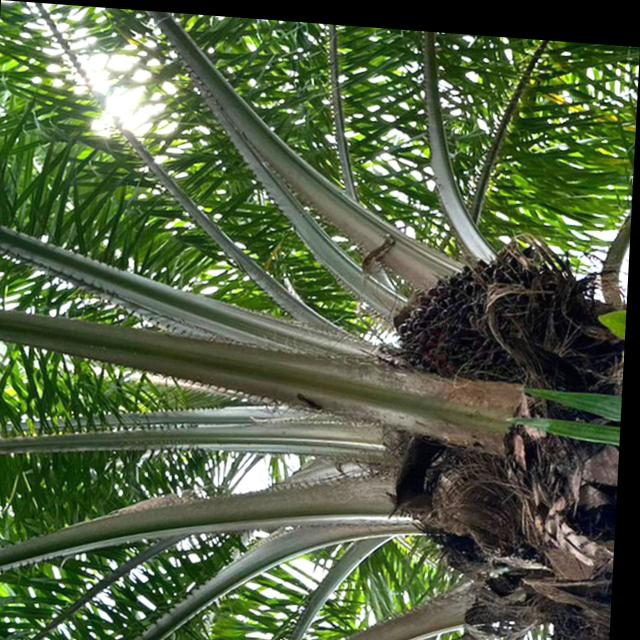almost: (388, 227, 560, 380)
